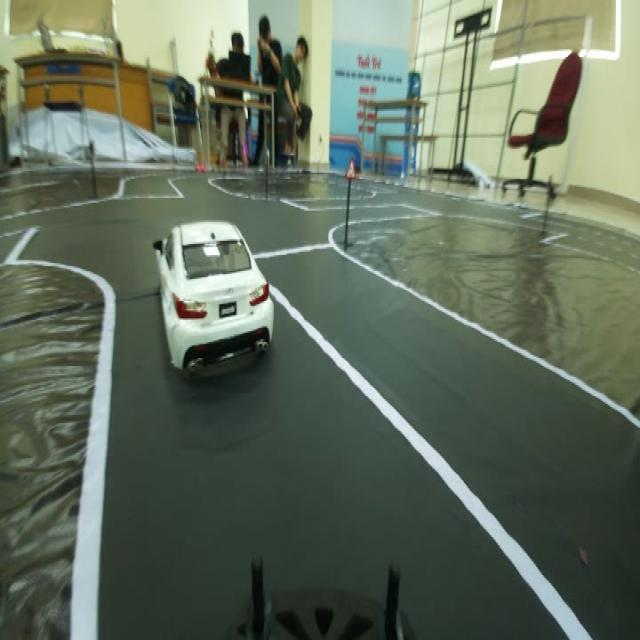car: (144, 222, 283, 382)
